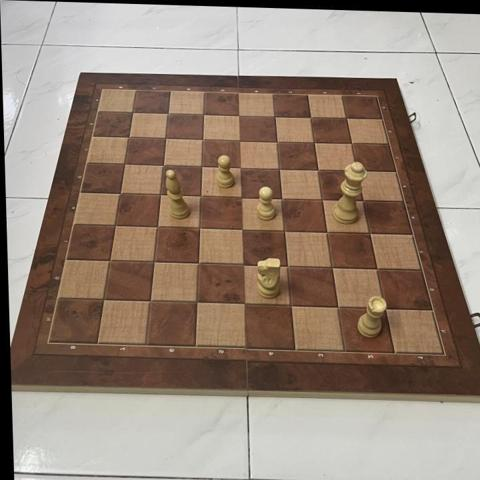xcorner: (266, 107, 283, 124), (231, 131, 248, 148), (268, 132, 285, 149), (112, 185, 129, 202), (152, 186, 169, 203), (192, 187, 209, 204), (107, 217, 124, 234), (149, 218, 166, 235), (191, 219, 208, 236), (318, 222, 335, 239), (361, 223, 378, 240), (368, 259, 385, 276), (235, 295, 252, 312), (282, 296, 299, 313), (160, 105, 176, 122), (195, 106, 212, 122), (338, 108, 354, 125), (121, 129, 137, 146), (157, 130, 174, 146), (194, 131, 211, 147), (305, 133, 322, 149), (117, 156, 133, 173), (193, 158, 210, 174), (232, 158, 248, 175), (271, 159, 287, 176), (309, 160, 326, 176), (348, 161, 365, 177), (273, 189, 290, 205), (354, 191, 371, 207), (234, 220, 250, 237), (276, 221, 292, 238), (190, 255, 207, 271), (234, 256, 251, 272), (96, 291, 112, 308), (142, 293, 159, 309), (329, 298, 346, 314), (125, 105, 141, 121), (231, 107, 247, 123), (302, 108, 318, 124), (343, 134, 359, 150), (155, 157, 171, 173), (233, 188, 249, 204), (314, 190, 330, 206), (102, 253, 118, 269), (146, 254, 162, 270), (279, 257, 295, 273), (324, 258, 340, 274), (189, 294, 205, 310), (377, 299, 393, 315)
